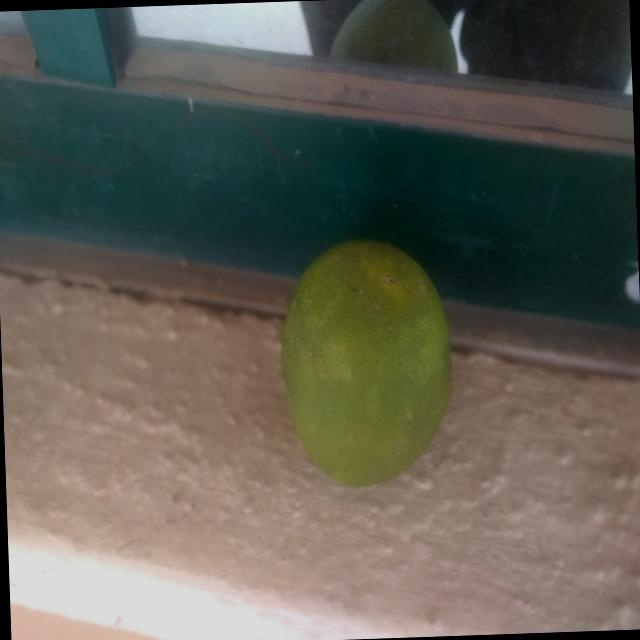agrume: (257, 211, 477, 514)
